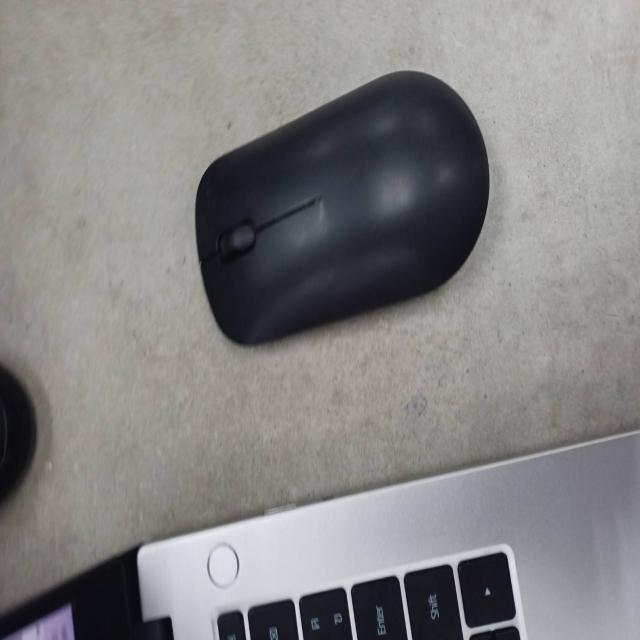mouse: (184, 59, 497, 353)
